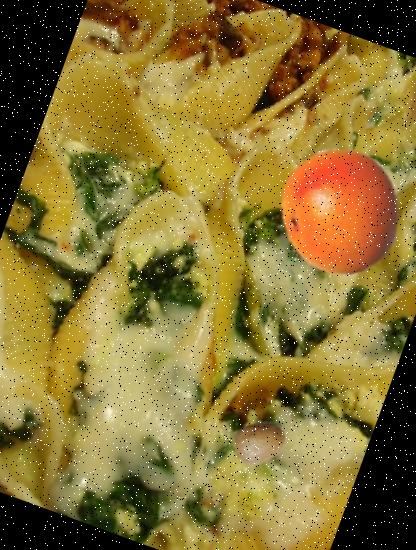Grapefruit: (258, 129, 416, 293)
Kiwi: (224, 408, 294, 477)
